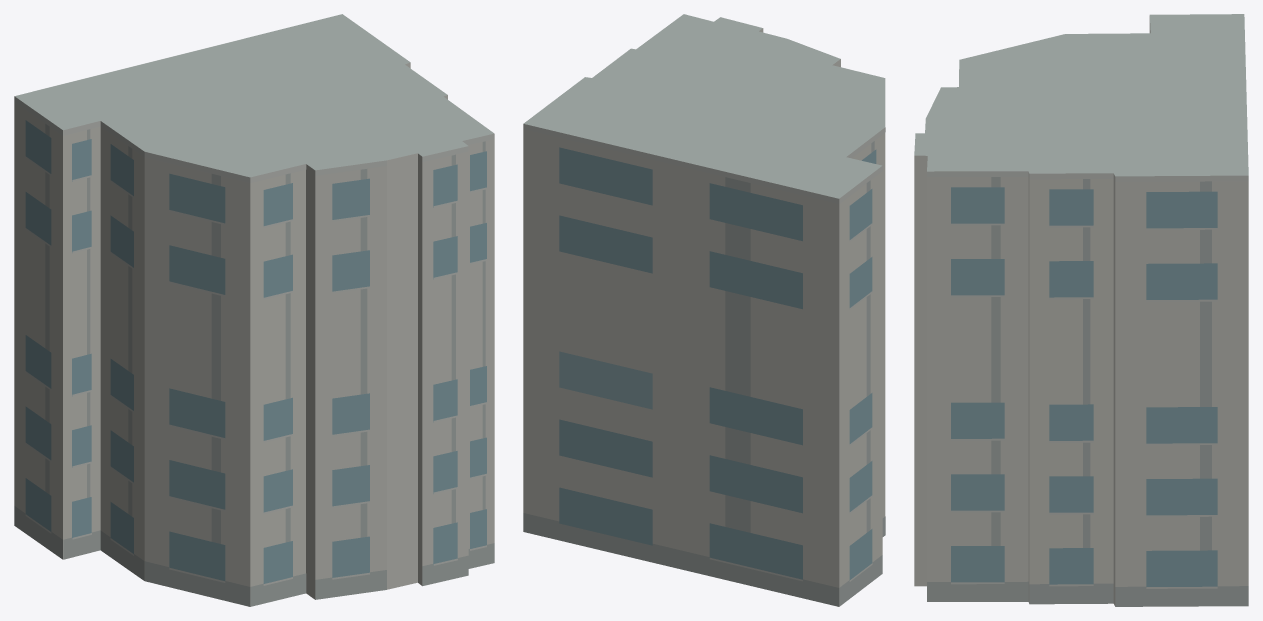
Rendered from survey-upis-32740797.glb.
The picture shows the model from 3 angles, left to right: view 1: azimuth 30°, elevation 25°; view 2: azimuth 150°, elevation 25°; view 3: azimuth 270°, elevation 25°; orthographic projection. The views are drawn at different scales.
Visible parts, largest first — view 1: survey-upis-32740797.tmp; view 2: survey-upis-32740797.tmp; view 3: survey-upis-32740797.tmp.
Boxes of the visible parts, x1,y1,x2,y2 form: survey-upis-32740797.tmp: (14, 14, 494, 606); survey-upis-32740797.tmp: (523, 14, 885, 606); survey-upis-32740797.tmp: (914, 14, 1248, 606).
Bounding box in the file's own units: 15.01 × 18.55 × 13.07.
